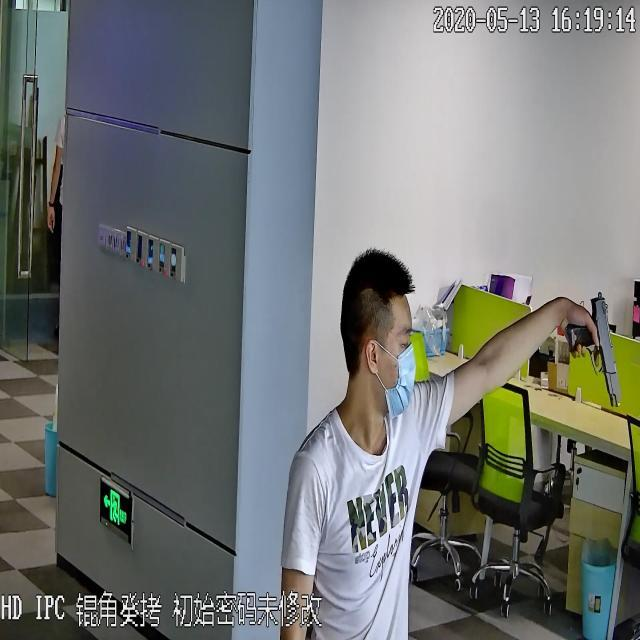gun: (564, 285, 626, 415)
